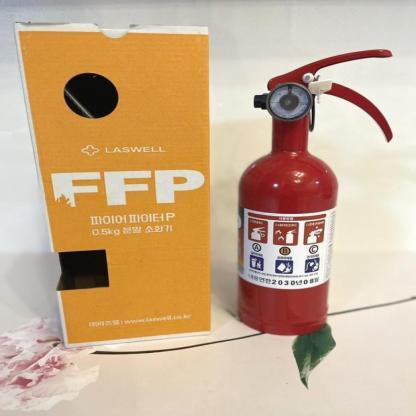Fire Extinguisher: (228, 37, 411, 341)
